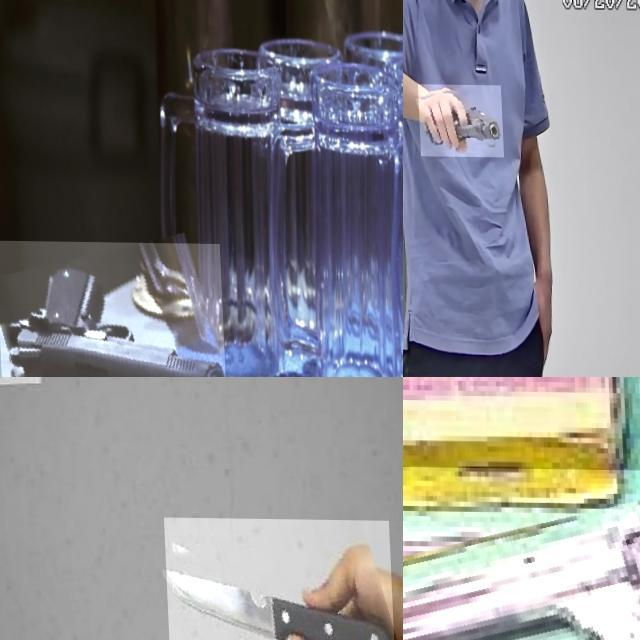-: (161, 516, 392, 640)
gun-knife-thesis - v11 Yolov5 augmented: (403, 466, 640, 640), (0, 239, 224, 377), (417, 84, 502, 156)
